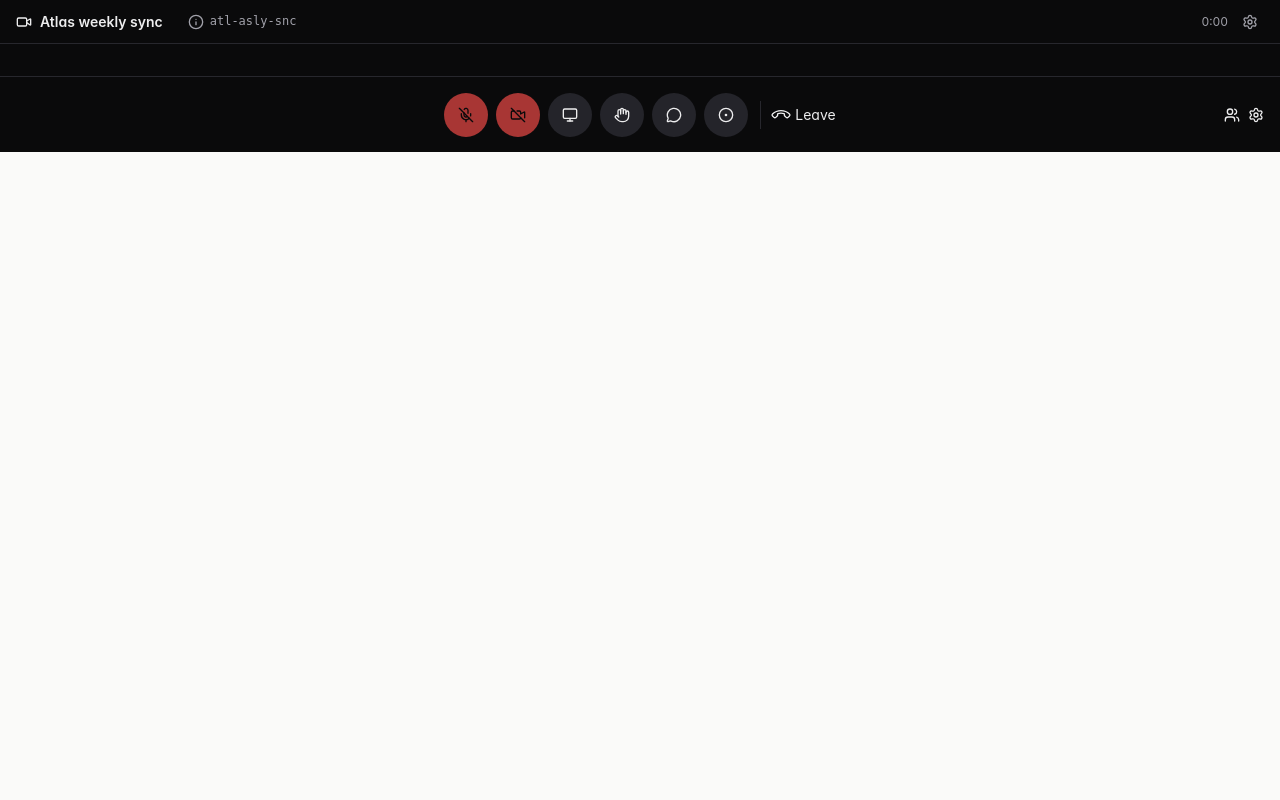
it: MeetCall recording › doesn't record when the confirmation is cancelled
Click the button named "Start recording": (726, 114) [704,92,748,136]
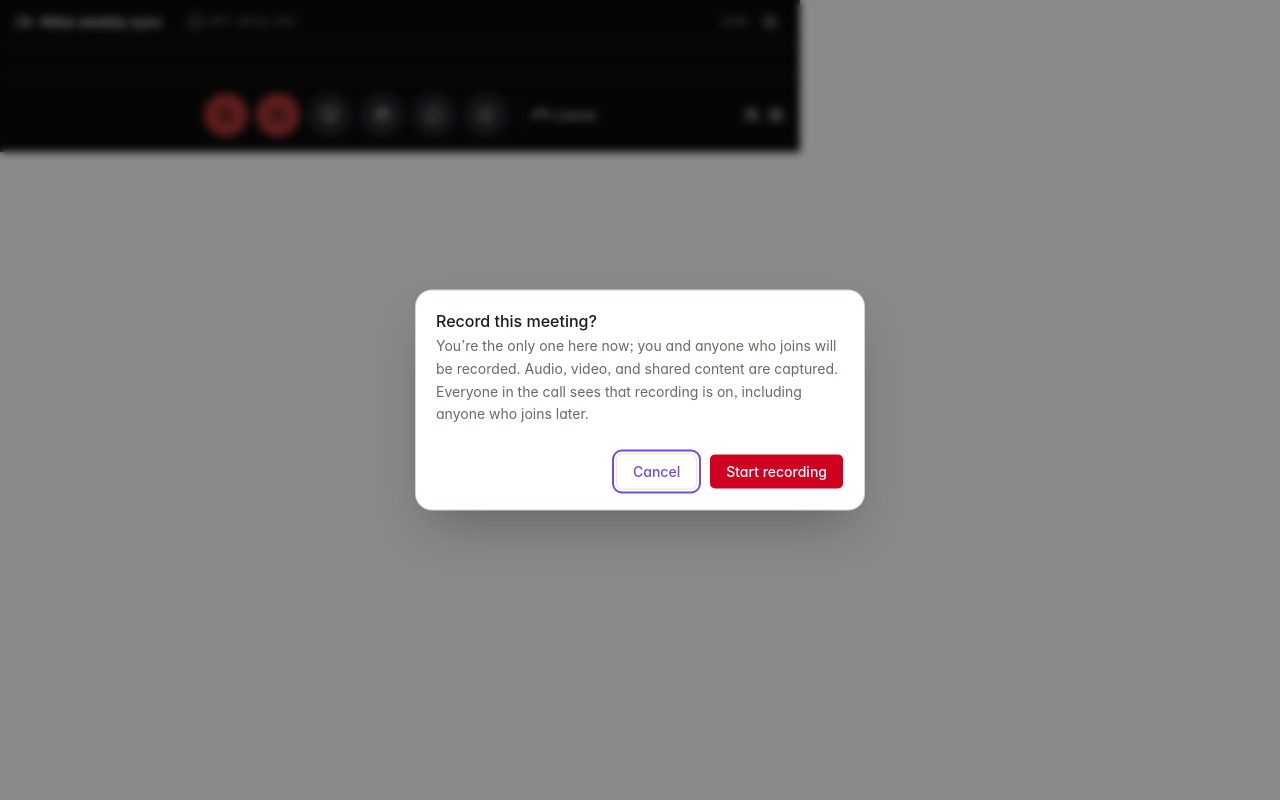
Check: the dialog shows "You’re the only one here now", box [436,336,836,376]
Click the button "Cancel": (657, 472) [616,454,697,490]
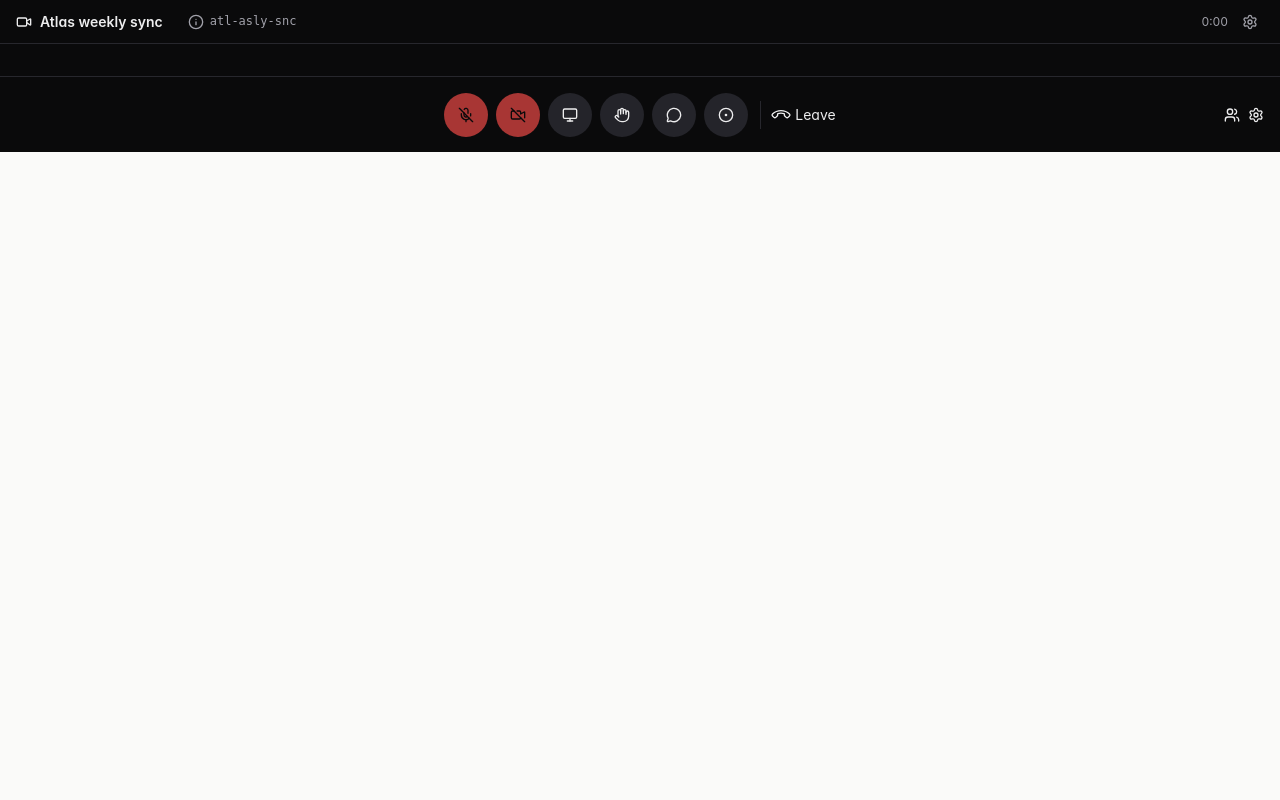
Check: the dialog is gone
